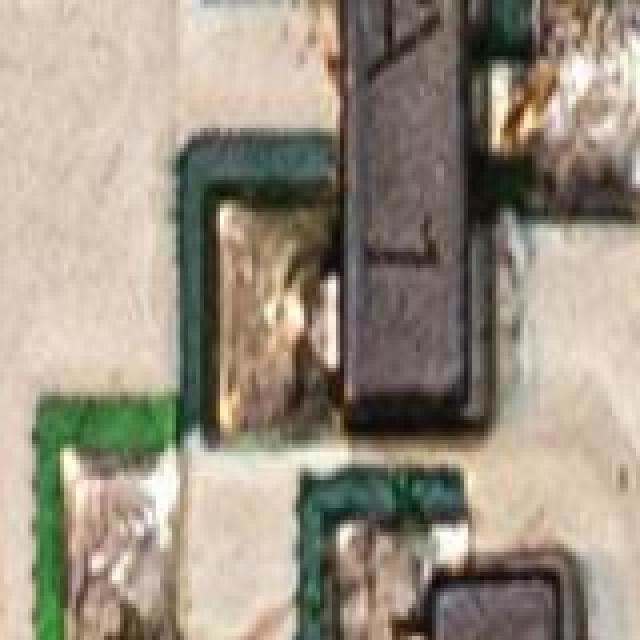transistor: (220, 0, 538, 444), (360, 556, 632, 640), (0, 588, 296, 640)
